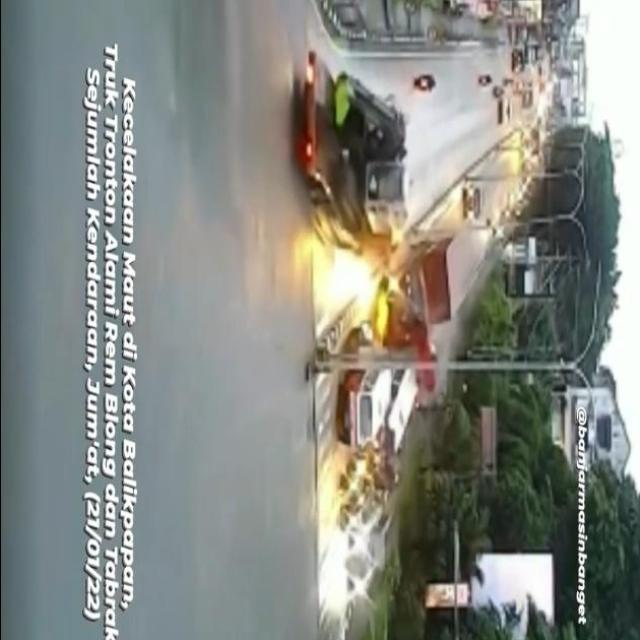accident: (375, 223, 481, 443)
non_accident: (288, 63, 436, 245)
